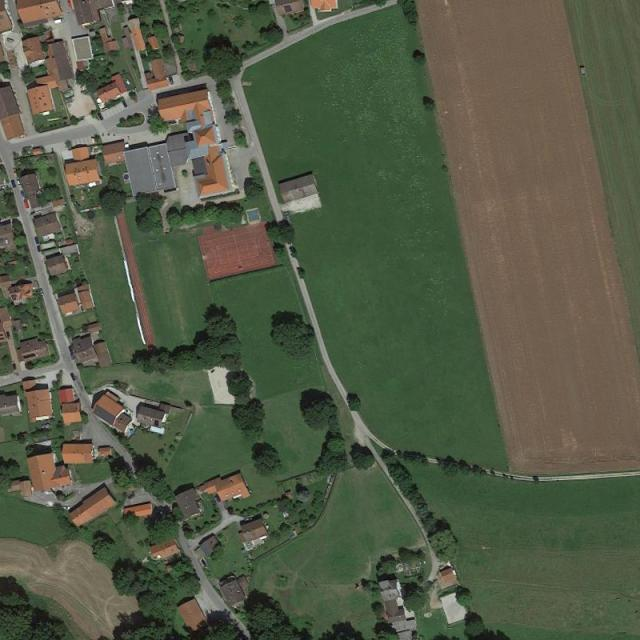vehicle: (54, 18, 65, 25), (70, 373, 77, 382), (10, 180, 17, 188), (39, 288, 45, 297), (122, 100, 128, 109), (16, 177, 22, 186), (24, 199, 30, 208), (34, 236, 40, 245), (98, 113, 104, 121), (20, 190, 26, 198), (169, 77, 174, 86), (60, 506, 71, 510), (13, 168, 18, 176), (37, 246, 42, 252), (68, 1, 71, 6)
